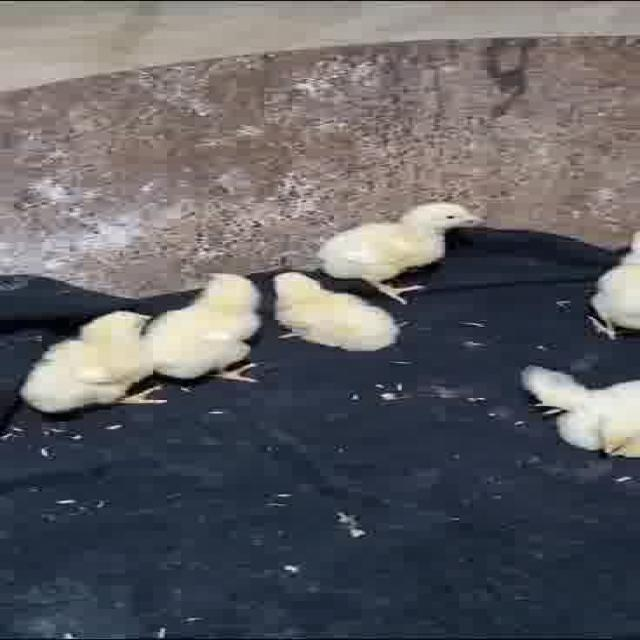poussin: (316, 200, 494, 300), (504, 352, 640, 472), (20, 306, 165, 418), (141, 265, 264, 389), (269, 265, 403, 355), (581, 195, 640, 345)
